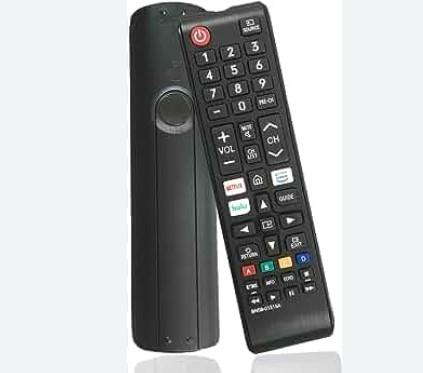Remote control: (179, 3, 336, 357), (129, 2, 220, 354)
